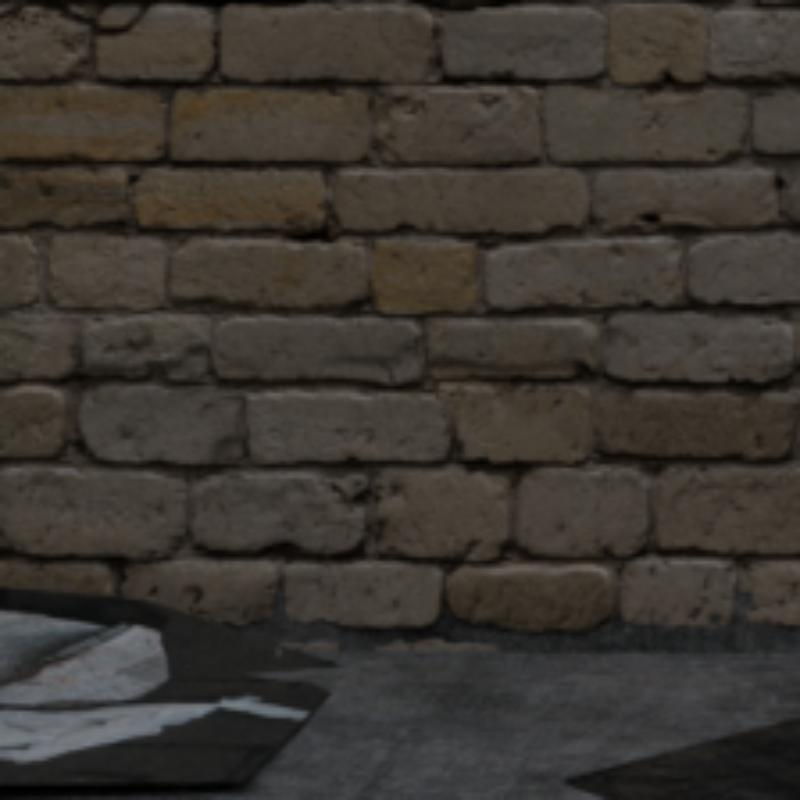pothole: (0, 0, 143, 32), (407, 0, 521, 11)
